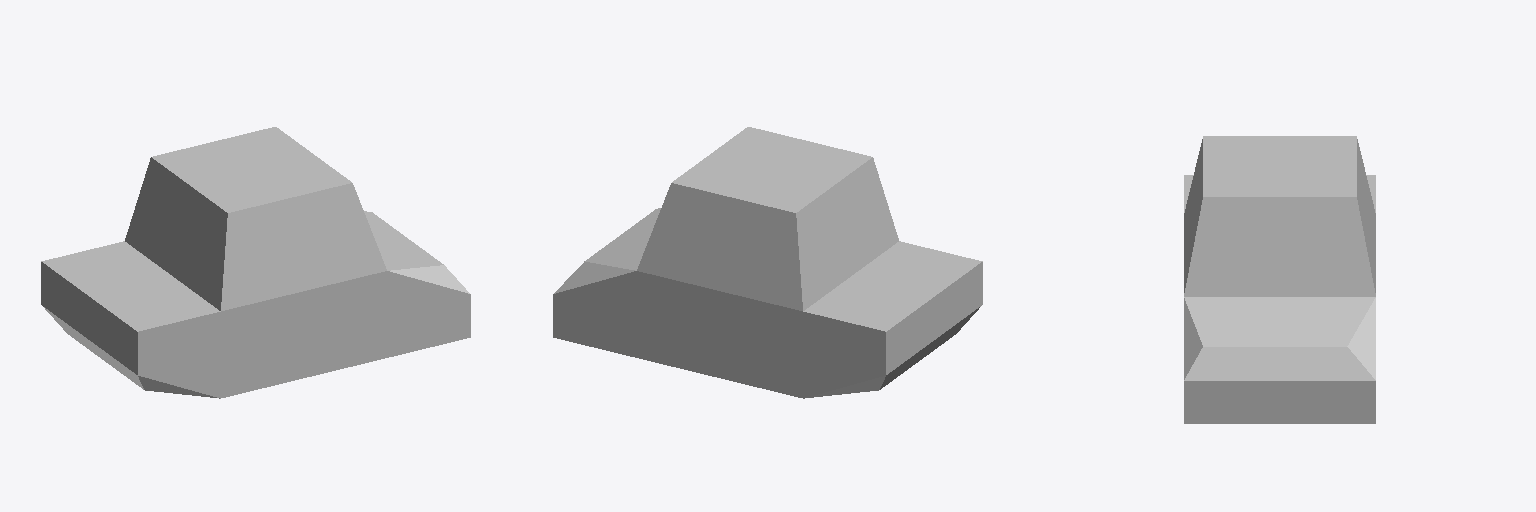
File: car_pickup.obj
The picture shows the model from 3 angles: view 1: azimuth 30°, elevation 25°; view 2: azimuth 150°, elevation 25°; view 3: azimuth 270°, elevation 25°; orthographic projection.
Parts seen in each view (by area): view 1: Cube; view 2: Cube; view 3: Cube.
Part boxes in pixels (x1,y1,x2,y2): Cube: (41, 127, 470, 398); Cube: (553, 127, 982, 398); Cube: (1184, 136, 1375, 423).
Size of the model in its own units: 4 by 2 by 2.